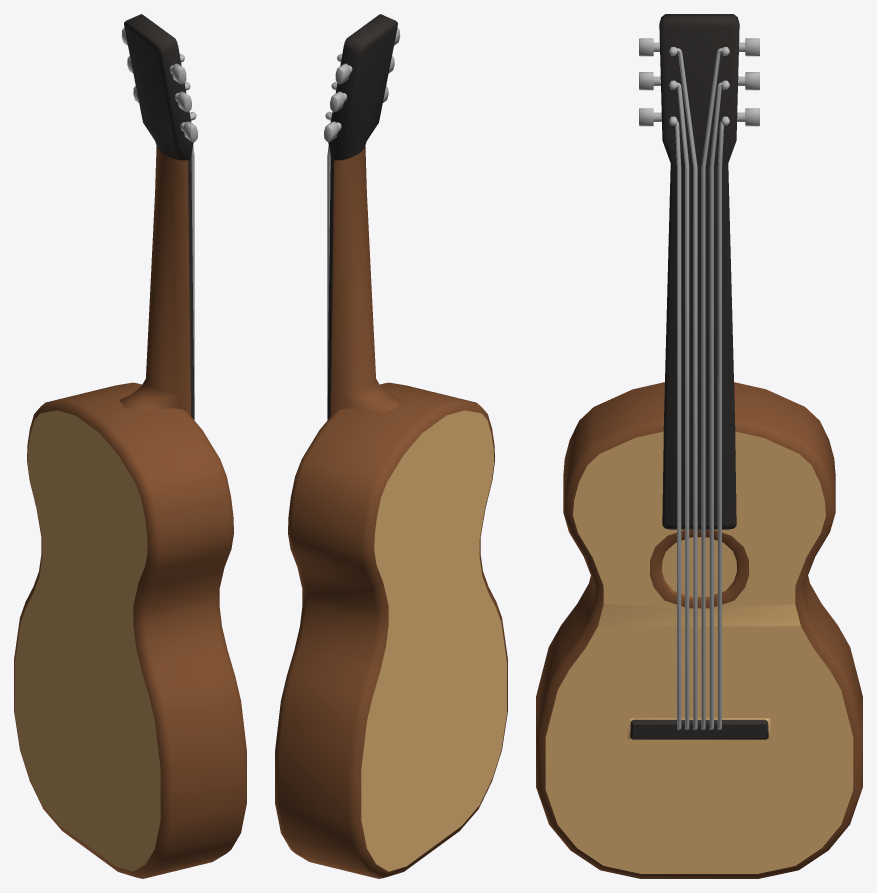
File: guitar.dae
3 renders of one model, left to right at view 1: azimuth 30°, elevation 25°; view 2: azimuth 150°, elevation 25°; view 3: azimuth 270°, elevation 25°, orthographic. The views are drawn at different scales.
Visible parts, largest first — view 1: Body, Neck, TuningPins, Strings; view 2: Body, Neck, TuningPins, Strings; view 3: Body, Neck, Strings, TuningPins.
Boxes of the visible parts, <box> form: Body: <box>14,382,246,878</box>; Neck: <box>119,14,194,419</box>; TuningPins: <box>121,28,197,141</box>; Strings: <box>191,146,194,420</box>; Body: <box>275,382,507,878</box>; Neck: <box>327,14,402,419</box>; TuningPins: <box>324,28,400,141</box>; Strings: <box>327,146,330,420</box>; Body: <box>536,382,862,878</box>; Neck: <box>659,14,739,529</box>; Strings: <box>675,48,723,729</box>; TuningPins: <box>639,38,759,126</box>.
Bounding box in the file's own units: 0.1583 × 0.44 × 1.27.
